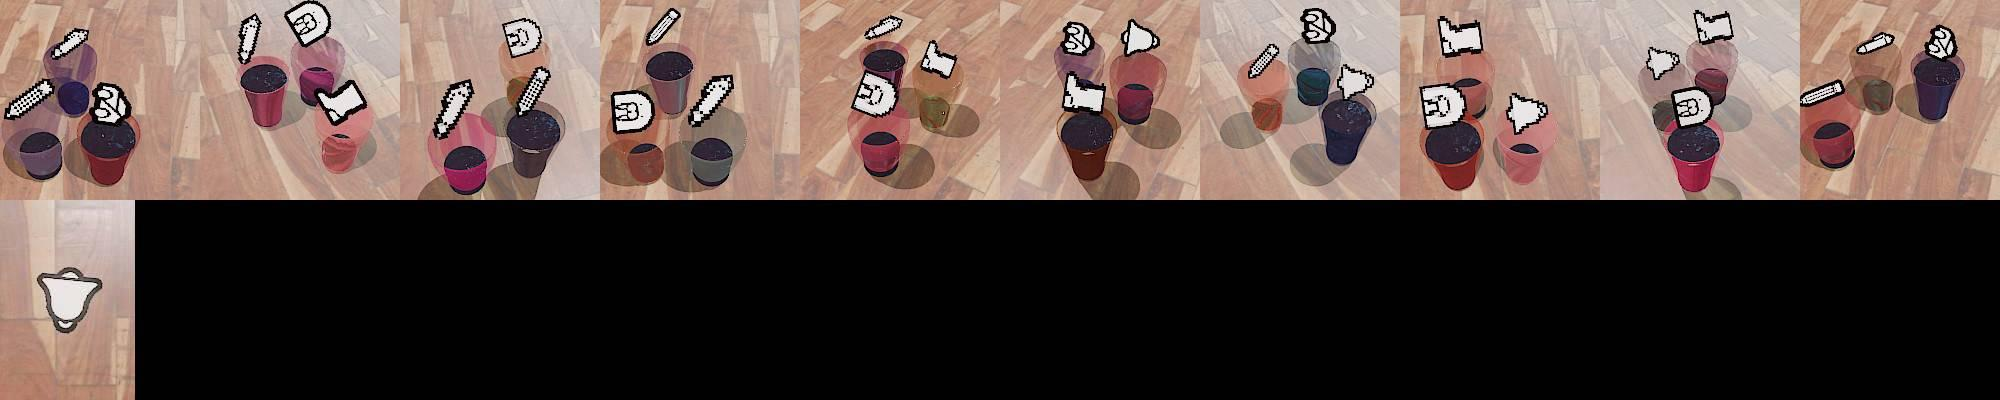icon: (35, 267, 105, 333), (433, 77, 475, 139), (315, 77, 369, 125), (687, 73, 734, 128), (851, 70, 899, 117), (284, 0, 331, 48), (3, 79, 55, 121), (609, 87, 655, 134), (1419, 83, 1465, 128), (1437, 16, 1484, 58), (515, 66, 553, 117), (1062, 71, 1106, 115), (1506, 92, 1549, 135), (501, 17, 542, 59), (91, 81, 131, 124), (1672, 87, 1713, 127), (1334, 61, 1375, 100), (1121, 17, 1160, 57), (48, 26, 91, 62), (919, 39, 958, 78), (1694, 8, 1734, 44), (1299, 6, 1336, 44), (646, 7, 681, 47), (1799, 78, 1845, 108), (236, 13, 261, 66), (1248, 41, 1281, 80), (1061, 20, 1095, 56), (1925, 24, 1958, 60), (1646, 46, 1680, 80), (865, 14, 903, 41), (1856, 31, 1896, 55)
